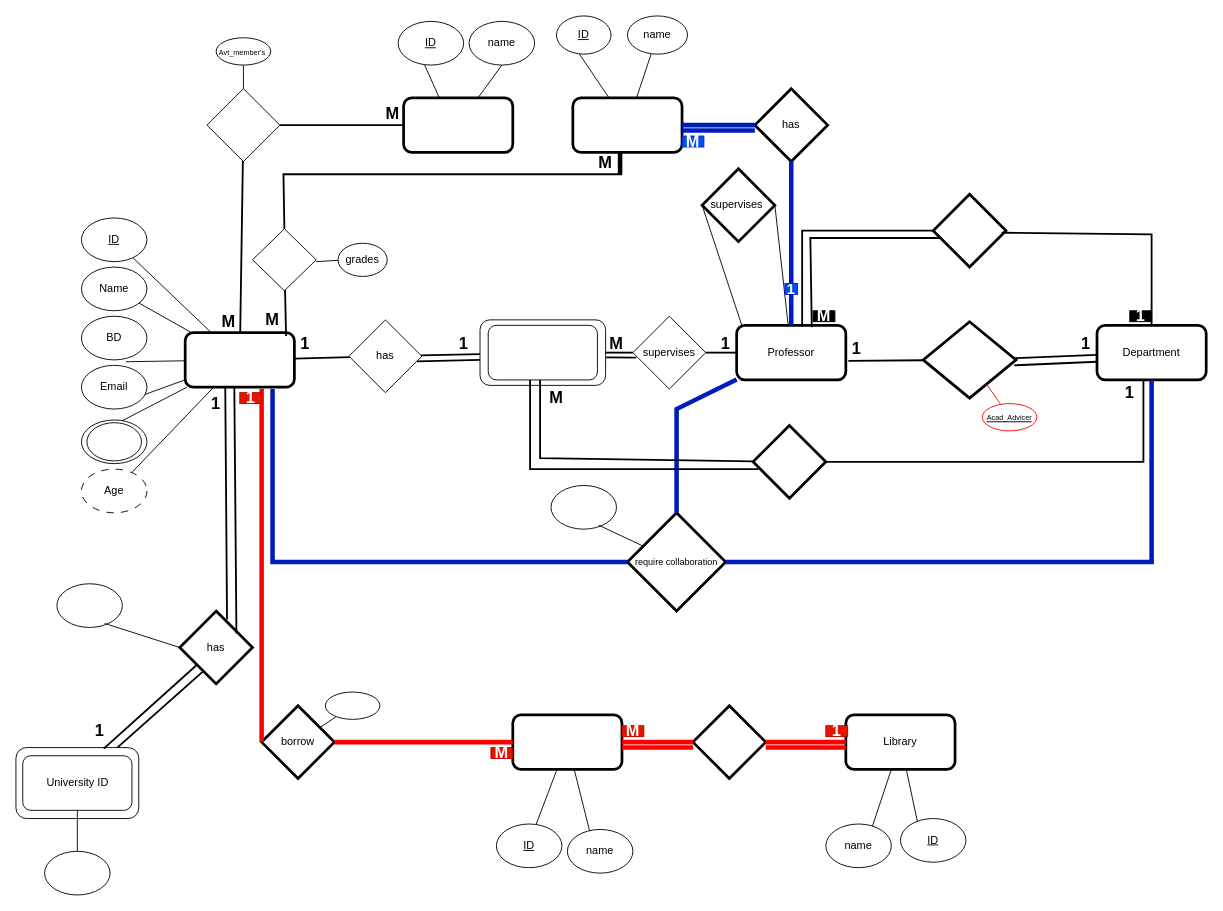
Image size: 1223x911. Some labels were removed from this diagram. The shapes that lost their labels are listed below. From the top down, each one's box as (x1, y1, x2, y2) in pixels, then its label:
(206, 88, 280, 162): join
(402, 96, 514, 153): Club
(571, 96, 683, 153): Cources
(931, 192, 1007, 268): assigned
(252, 228, 316, 291): enroll in
(183, 331, 295, 388): Student
(487, 324, 597, 380): Project
(921, 320, 1017, 399): supervised by
(86, 422, 142, 461): Phone
(751, 424, 827, 499): belongs to
(550, 485, 617, 529): research project
(56, 583, 122, 627): Issue Date
(324, 691, 380, 719): Stu_deatils
(511, 713, 623, 770): Book
(691, 704, 767, 779): registered in
(44, 850, 110, 895): Number
